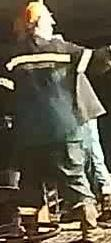helmet: (20, 1, 57, 28)
vest: (7, 38, 88, 144)
